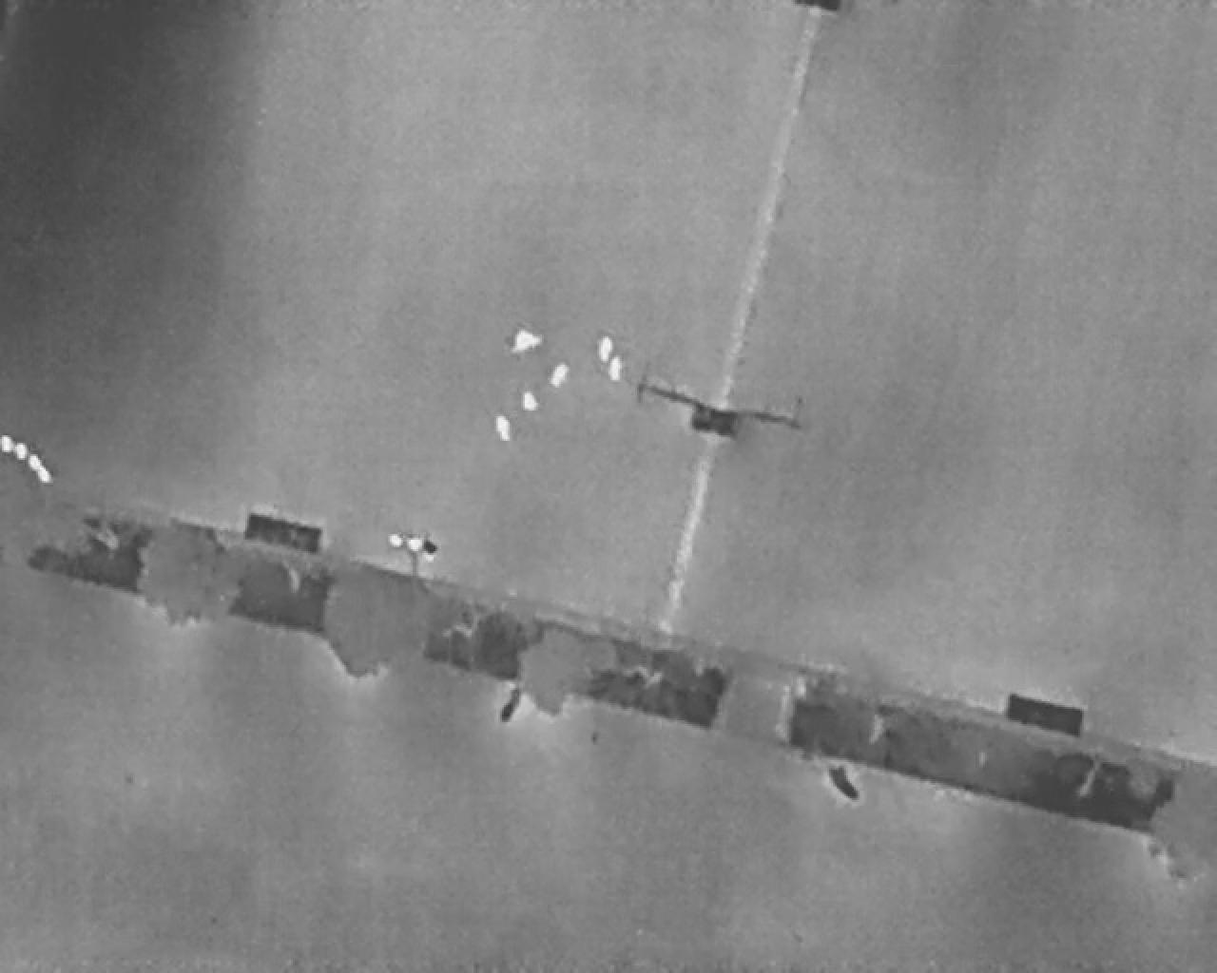person: (512, 330, 545, 354), (549, 358, 573, 389), (492, 413, 514, 442), (609, 356, 625, 383), (600, 335, 613, 364), (522, 391, 539, 413)
